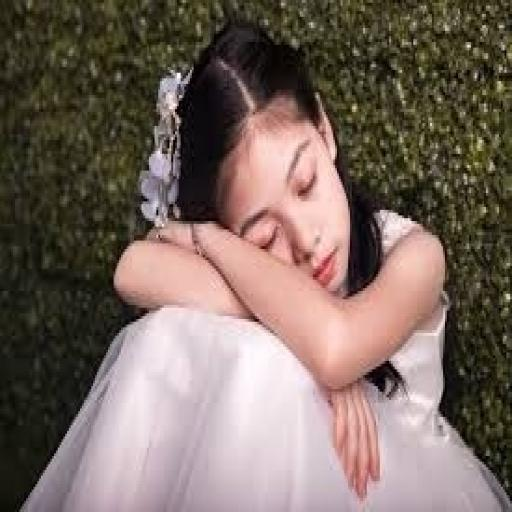sleeping: (17, 17, 510, 509)
